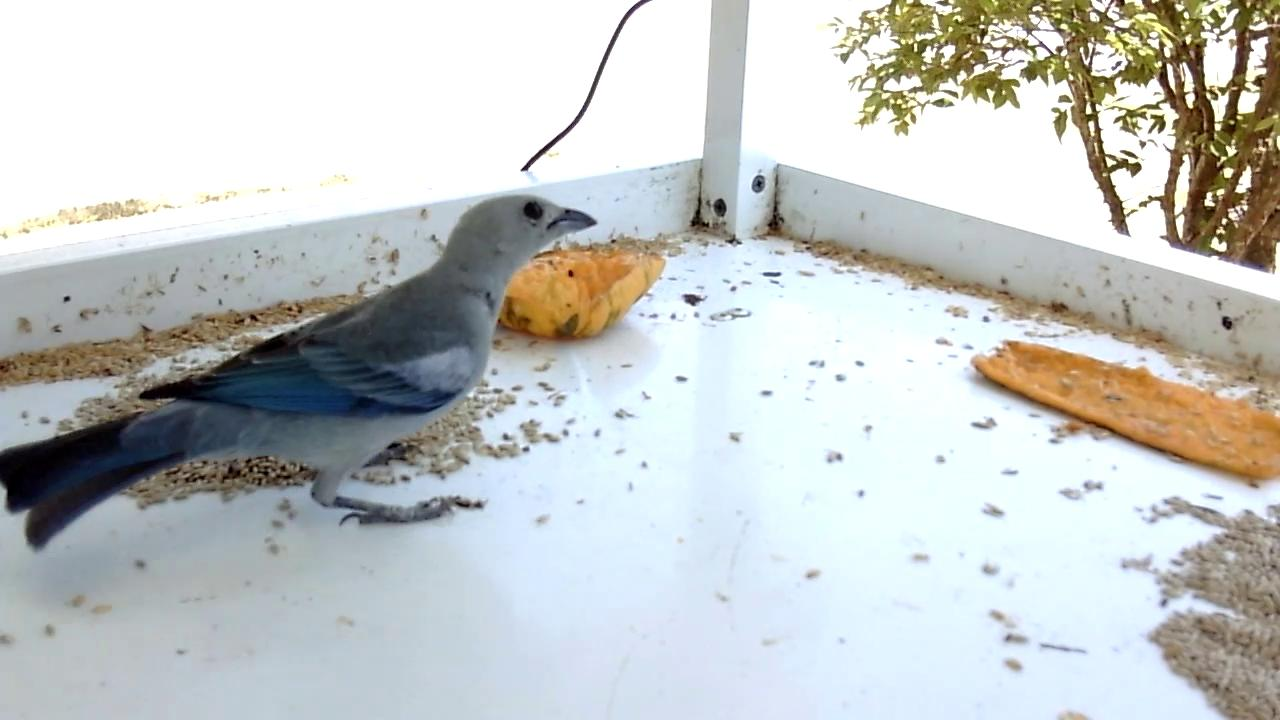sanhaco_da_amazonia: (1, 193, 598, 554)
